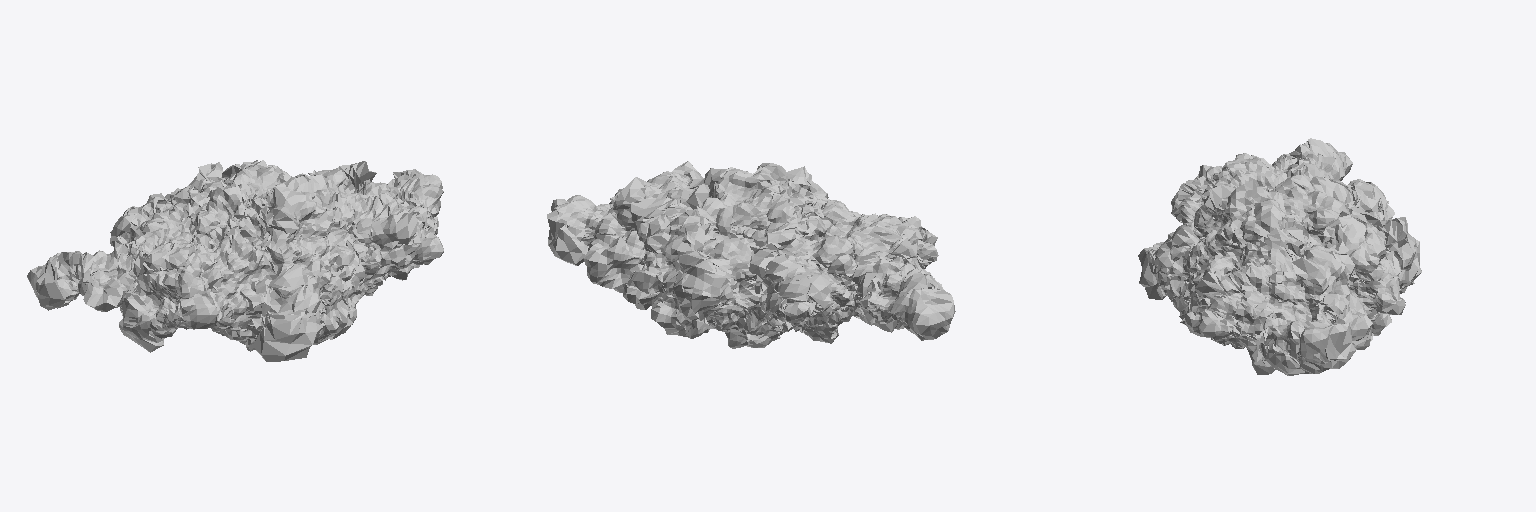
File: CloudDec.obj
3 views of the same model, side by side, from view 1: azimuth 30°, elevation 25°; view 2: azimuth 150°, elevation 25°; view 3: azimuth 270°, elevation 25° (orthographic).
Visible parts, largest first — view 1: Cube.001; view 2: Cube.001; view 3: Cube.001.
Part boxes in pixels (left/top/right/bottom): Cube.001: left=27, top=160, right=443, bottom=361; Cube.001: left=547, top=161, right=955, bottom=348; Cube.001: left=1138, top=138, right=1421, bottom=375.
Size of the model in its own units: 11.21 by 4.18 by 6.86.